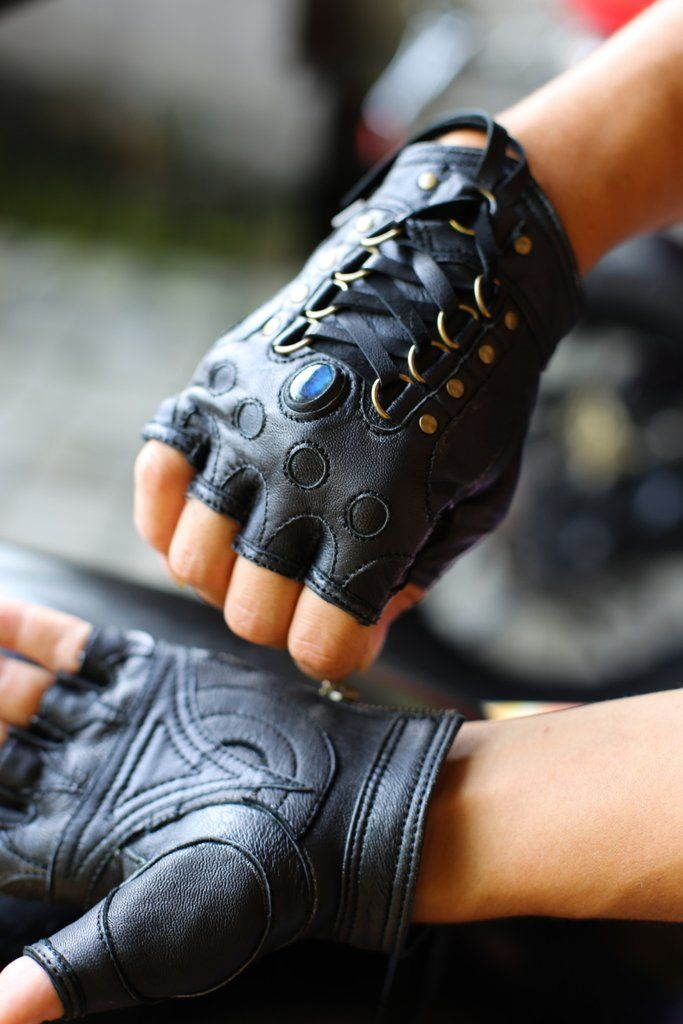cuero: (2, 111, 588, 1024)
